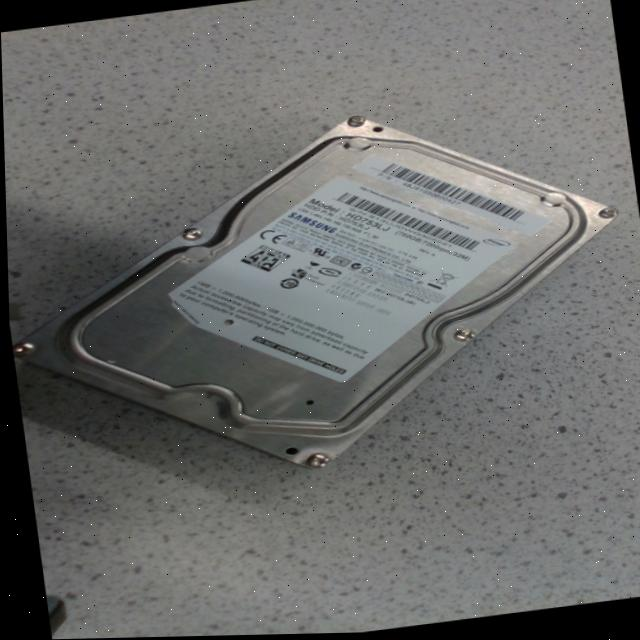label: (167, 180, 511, 383), (349, 155, 549, 238)
lid: (12, 117, 615, 470)
screw: (302, 455, 326, 468), (10, 342, 32, 356), (451, 331, 473, 343), (181, 228, 200, 241), (596, 209, 616, 221), (346, 117, 364, 128)
